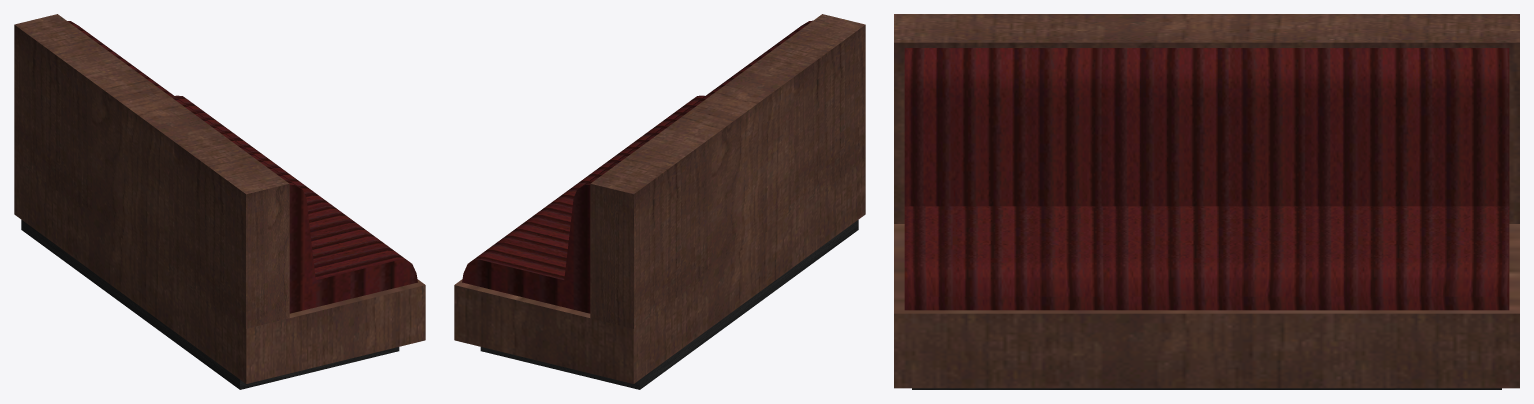
The model's file is sillon.obj.
The picture shows the model from 3 angles, left to right: view 1: azimuth 30°, elevation 25°; view 2: azimuth 150°, elevation 25°; view 3: azimuth 270°, elevation 25°; orthographic projection. The views are drawn at different scales.
Visible parts, largest first — view 1: group3_pasted__pCube1; view 2: group3_pasted__pCube1; view 3: group3_pasted__pCube1.
Boxes of the visible parts, x1,y1,x2,y2 form: group3_pasted__pCube1: (14,14,425,389); group3_pasted__pCube1: (454,14,865,389); group3_pasted__pCube1: (894,14,1519,389).
Size of the model in its own units: 1.12 by 1.19 by 2.5.
3 materials, 3 textured.
